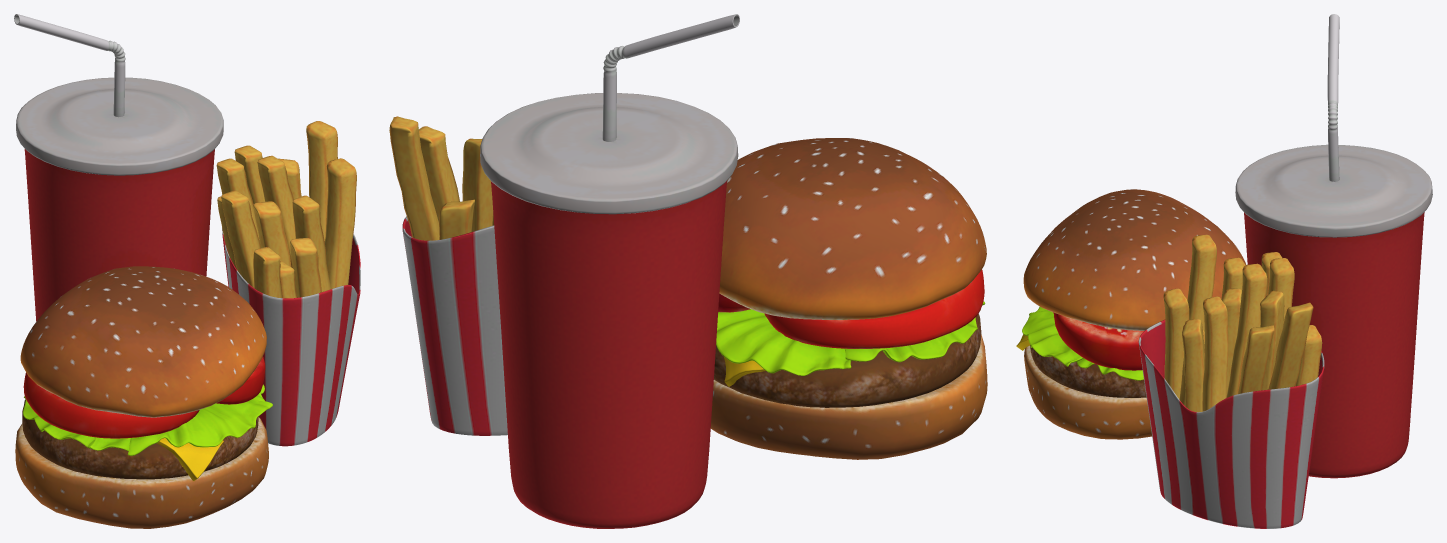
File: burger.glb
3 renders of one model, left to right at view 1: azimuth 30°, elevation 25°; view 2: azimuth 150°, elevation 25°; view 3: azimuth 270°, elevation 25°, orthographic. The views are drawn at different scales.
Visible parts, largest first — view 1: node_id5; view 2: node_id5; view 3: node_id5.
Boxes of the visible parts, x1,y1,x2,y2 form: node_id5: (14, 14, 360, 528); node_id5: (389, 14, 987, 528); node_id5: (1016, 14, 1432, 528).
Size of the model in its own units: 0.00504 by 0.00512 by 0.00497.
Materials: 1 (1 with a texture image).
